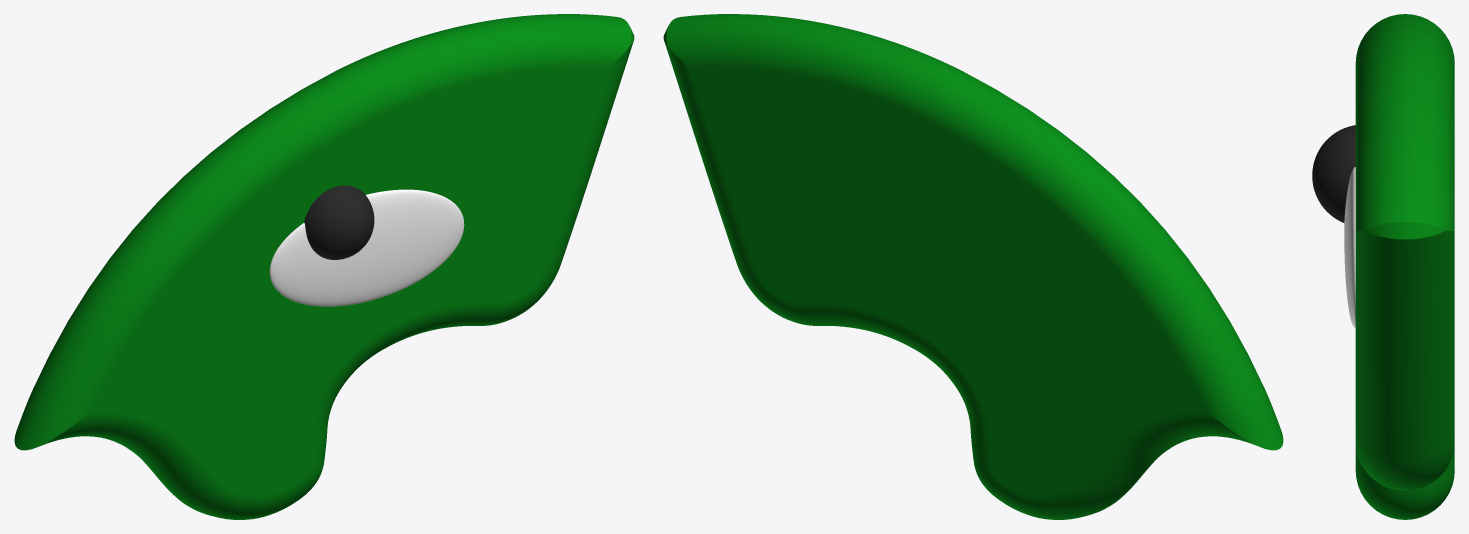
Rendered from consulting.glb.
3 renders of one model, left to right at view 1: azimuth 30°, elevation 25°; view 2: azimuth 150°, elevation 25°; view 3: azimuth 270°, elevation 25°, orthographic. The views are drawn at different scales.
Visible parts, largest first — view 1: Shape, Sphere, Pupille; view 2: Shape; view 3: Shape, Pupille, Sphere.
Boxes of the visible parts, box(x1,y1,x2,y2) form: Shape: box(14, 14, 634, 519); Sphere: box(269, 189, 464, 306); Pupille: box(304, 185, 374, 259); Shape: box(663, 14, 1283, 519); Shape: box(1355, 14, 1454, 519); Pupille: box(1312, 125, 1355, 222); Sphere: box(1344, 167, 1355, 327).
Bounding box in the file's own units: 5.48 × 3.71 × 0.8632.
